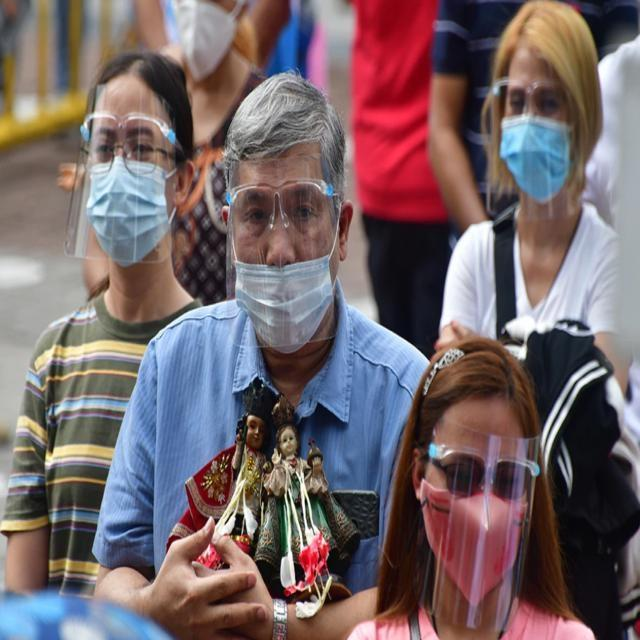hairnet: (230, 98, 340, 329)
